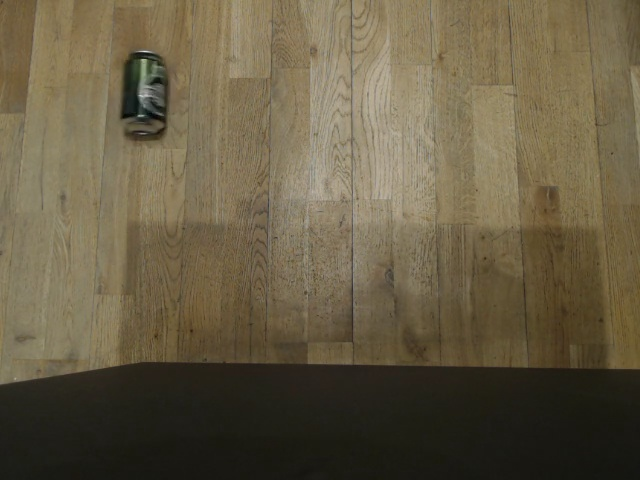beer: (118, 48, 170, 141)
